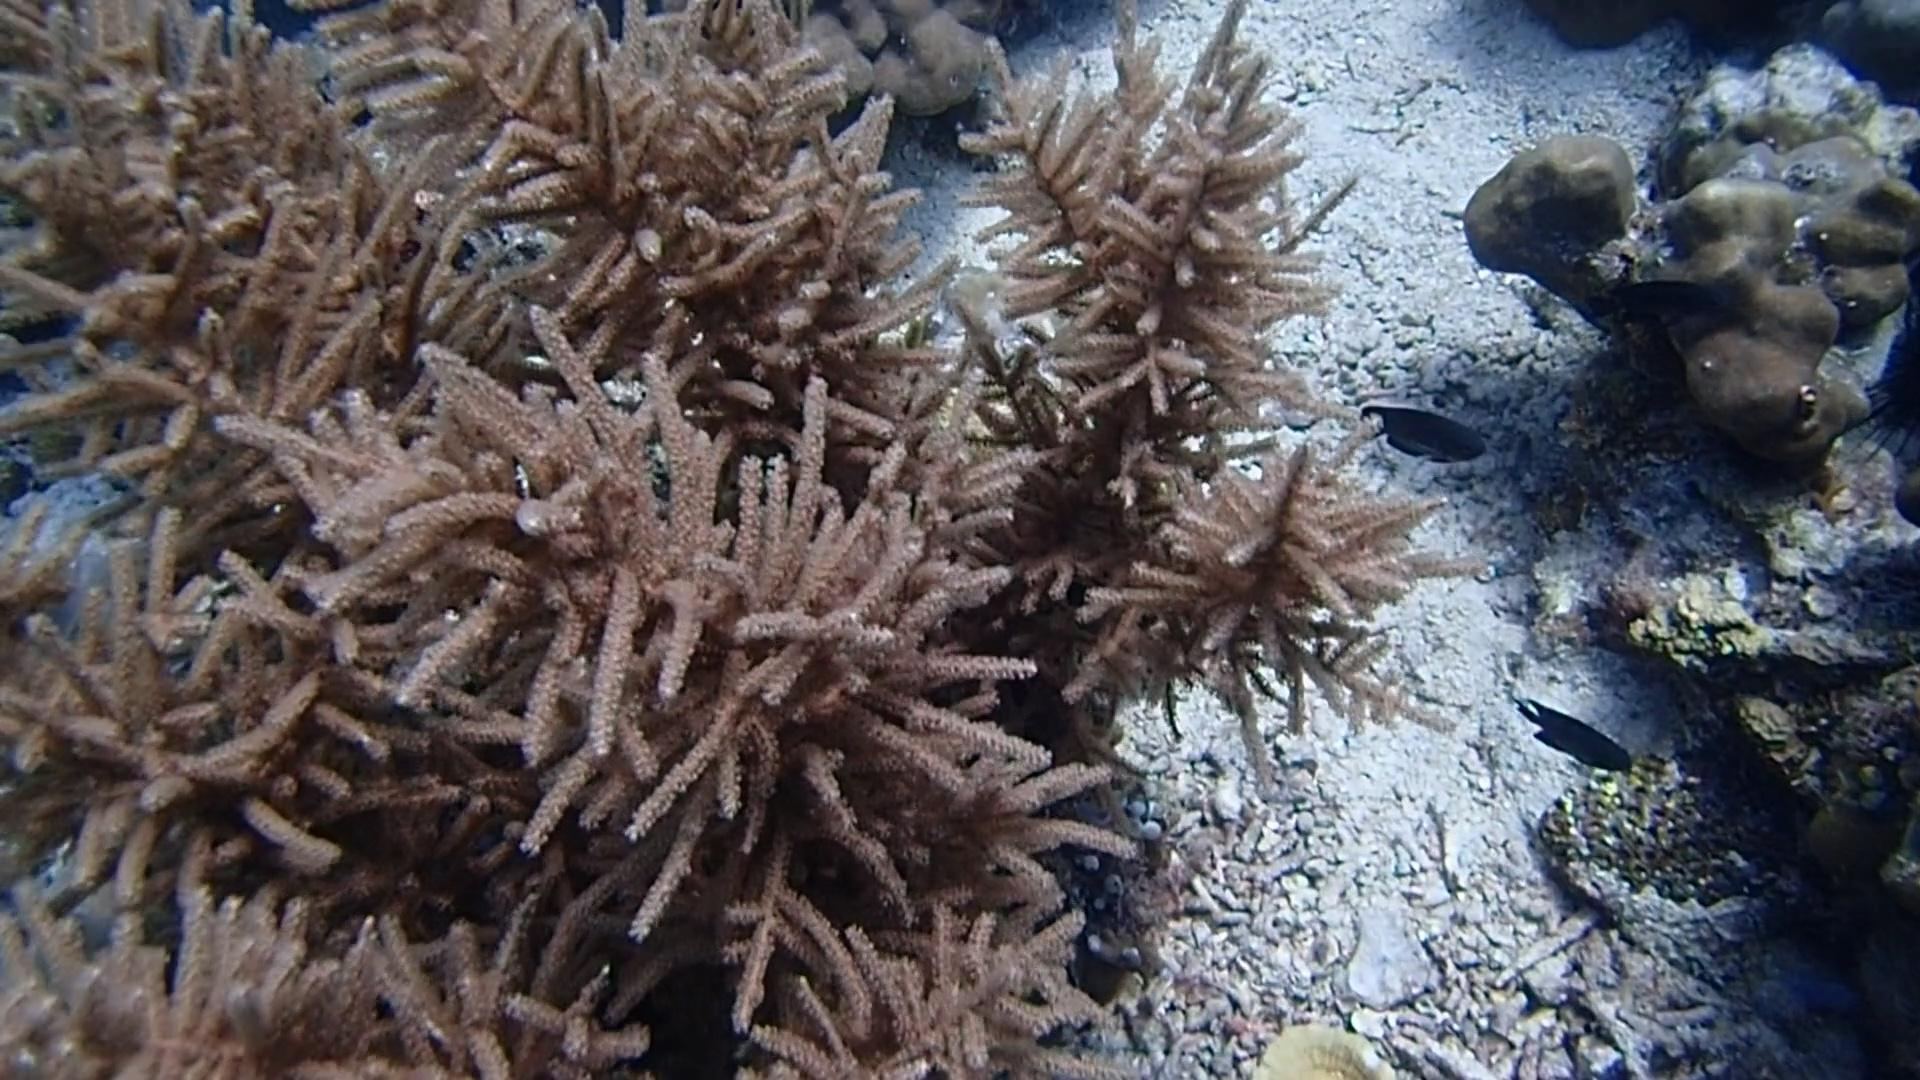Dark Fish: (1507, 692, 1634, 785), (1571, 269, 1741, 338), (1350, 392, 1491, 473)
